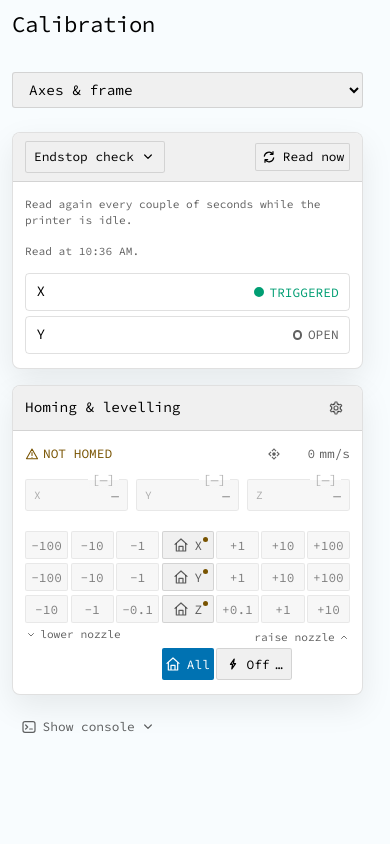
Test: Calibration view › offers the same stages in the narrow-screen select, and switches with it
Select "Bed & probe" in the dropdown with class "calibration-stages__select". click: (188, 90)
box: [12, 72, 363, 108]
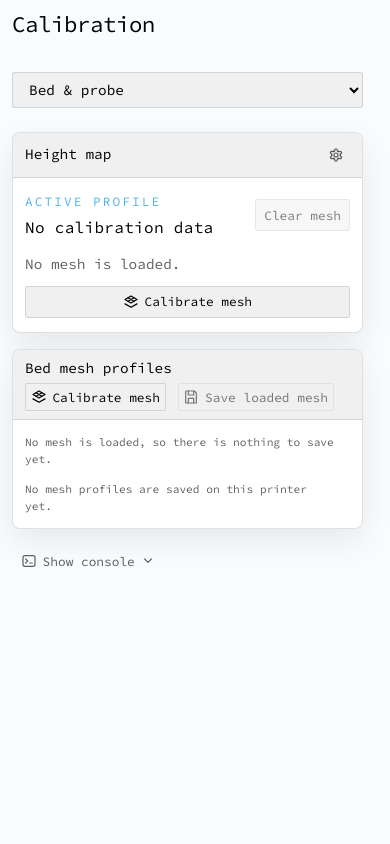
Now the text "Bed mesh profiles" is shown, box [25, 358, 172, 379]
